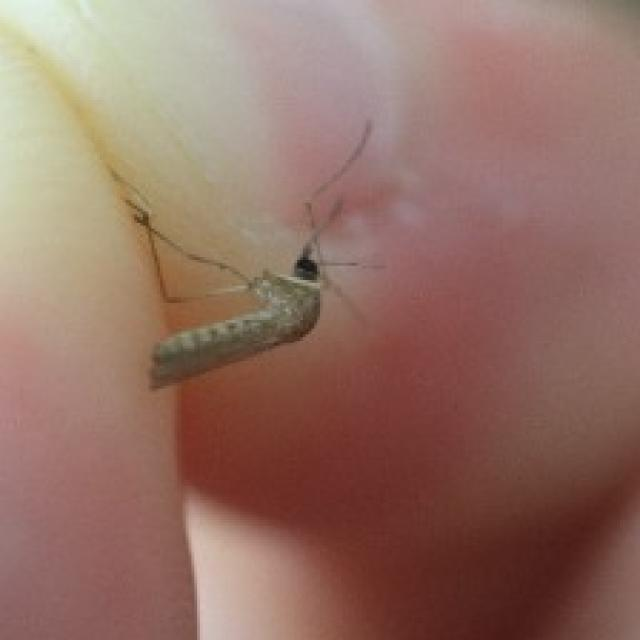culex: (128, 115, 386, 392)
